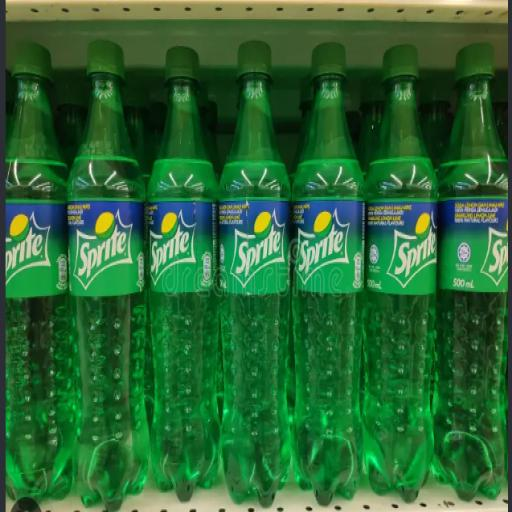Sprite: (68, 41, 148, 509), (433, 43, 508, 498), (364, 46, 438, 501), (292, 43, 364, 504), (219, 41, 290, 505), (6, 43, 76, 501), (149, 48, 219, 500)
